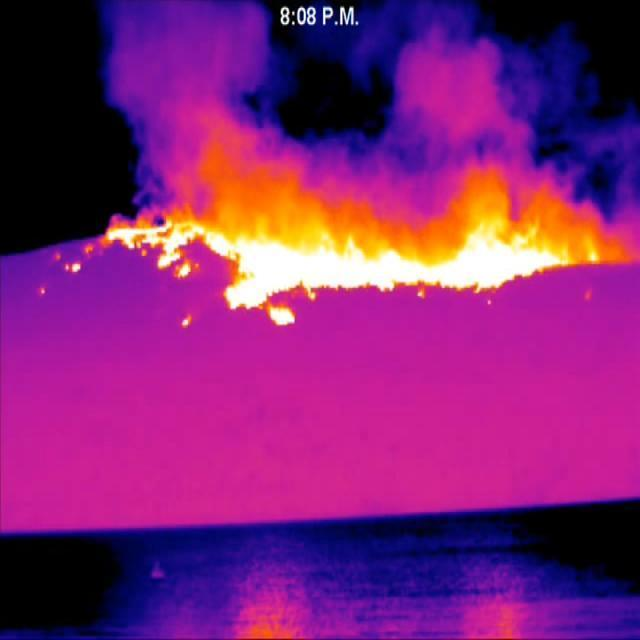fire: (67, 161, 615, 331)
